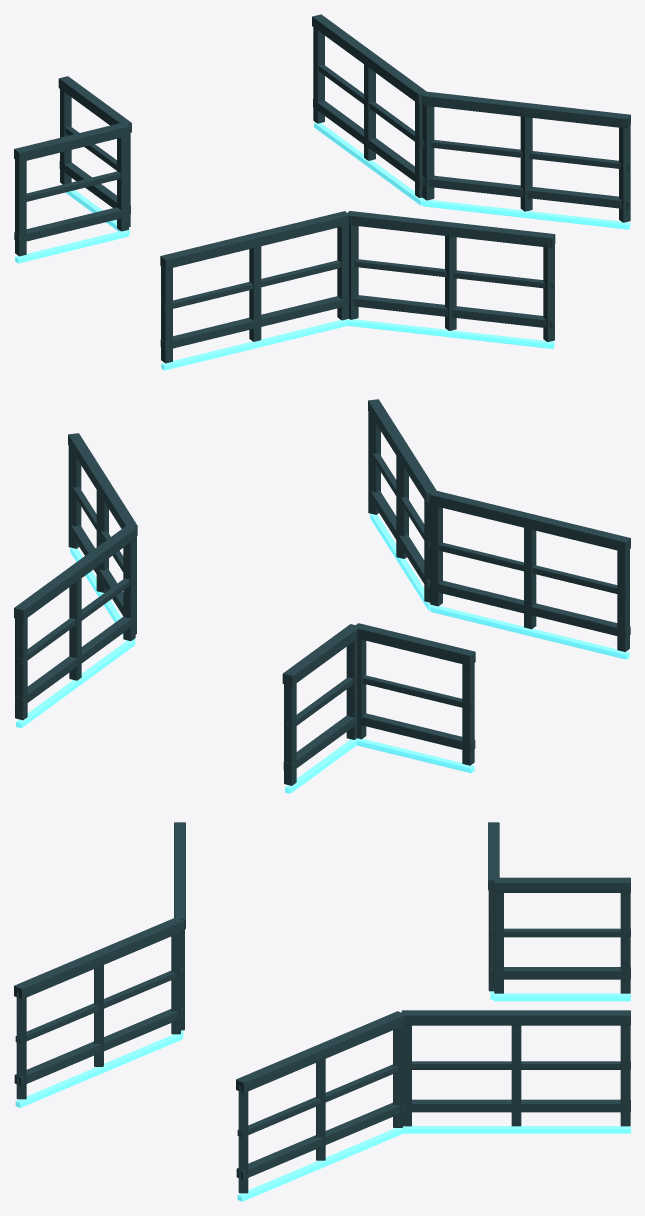
The model's file is d06_harbour_footbridge_06_junction.glb.
3 renders of one model, top to bottom at view 1: azimuth 30°, elevation 25°; view 2: azimuth 150°, elevation 25°; view 3: azimuth 270°, elevation 25°, orthographic. The views are drawn at different scales.
Parts seen in each view (by area): view 1: D06HarbourFootbridge06_junction_Mesh; view 2: D06HarbourFootbridge06_junction_Mesh; view 3: D06HarbourFootbridge06_junction_Mesh.
Boxes of the visible parts, box(x1,y1,x2,y2) form: D06HarbourFootbridge06_junction_Mesh: box(14, 14, 630, 370); D06HarbourFootbridge06_junction_Mesh: box(14, 399, 630, 793); D06HarbourFootbridge06_junction_Mesh: box(14, 822, 630, 1201).
Bounding box in the file's own units: 6.29 × 1.35 × 6.29.
